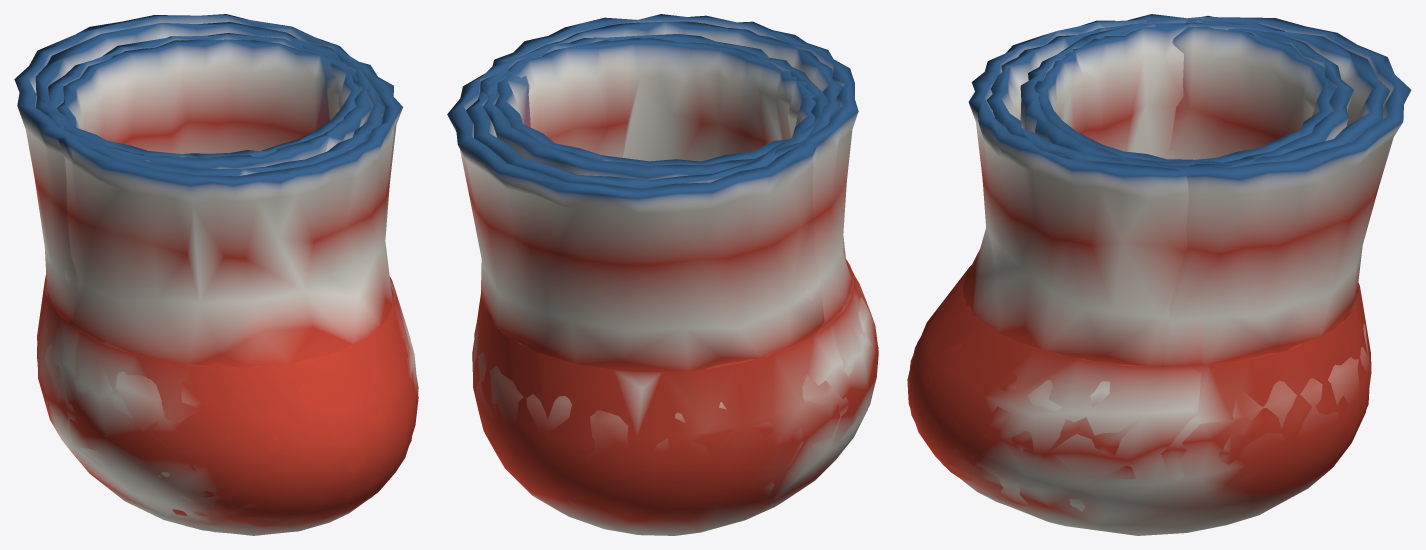
Rendered from tatsoc.glb.
3 renders of one model, left to right at view 1: azimuth 30°, elevation 25°; view 2: azimuth 150°, elevation 25°; view 3: azimuth 270°, elevation 25°, orthographic. The views are drawn at different scales.
Visible parts, largest first — view 1: Tat_Co__BL, Tat__BR, Tat_Co__FR, Tat__BL, Tat_Co__BR, Tat_Co__FL, Tat__FL, Tat__FR; view 2: Tat_Co__BR, Tat__BR, Tat_Co__FL, Tat_Co__BL, Tat__BL, Tat_Co__FR; view 3: Tat__BL, Tat_Co__BL, Tat_Co__BR, Tat__BR, Tat_Co__FR, Tat_Co__FL, Tat__FR, Tat__FL.
Part boxes in pixels (bbox=[...]): Tat_Co__BL: bbox=[44, 33, 402, 367]; Tat__BR: bbox=[37, 274, 418, 535]; Tat_Co__FR: bbox=[57, 39, 384, 176]; Tat__BL: bbox=[37, 276, 418, 530]; Tat_Co__BR: bbox=[14, 14, 371, 367]; Tat_Co__FL: bbox=[35, 22, 360, 157]; Tat__FL: bbox=[144, 399, 412, 534]; Tat__FR: bbox=[157, 404, 416, 529]; Tat_Co__BR: bbox=[447, 34, 850, 371]; Tat__BR: bbox=[472, 262, 878, 535]; Tat_Co__FL: bbox=[466, 37, 816, 188]; Tat_Co__BL: bbox=[480, 14, 858, 332]; Tat__BL: bbox=[473, 259, 878, 520]; Tat_Co__FR: bbox=[495, 21, 842, 165]; Tat__BL: bbox=[908, 265, 1370, 535]; Tat_Co__BL: bbox=[962, 14, 1353, 367]; Tat_Co__BR: bbox=[967, 16, 1411, 366]; Tat__BR: bbox=[908, 269, 1371, 509]; Tat_Co__FR: bbox=[986, 23, 1336, 165]; Tat_Co__FL: bbox=[1034, 22, 1390, 165]; Tat__FR: bbox=[907, 324, 1084, 511]; Tat__FL: bbox=[909, 344, 976, 457].
Bounding box in the file's own units: 0.0845 × 0.101 × 0.1094.
